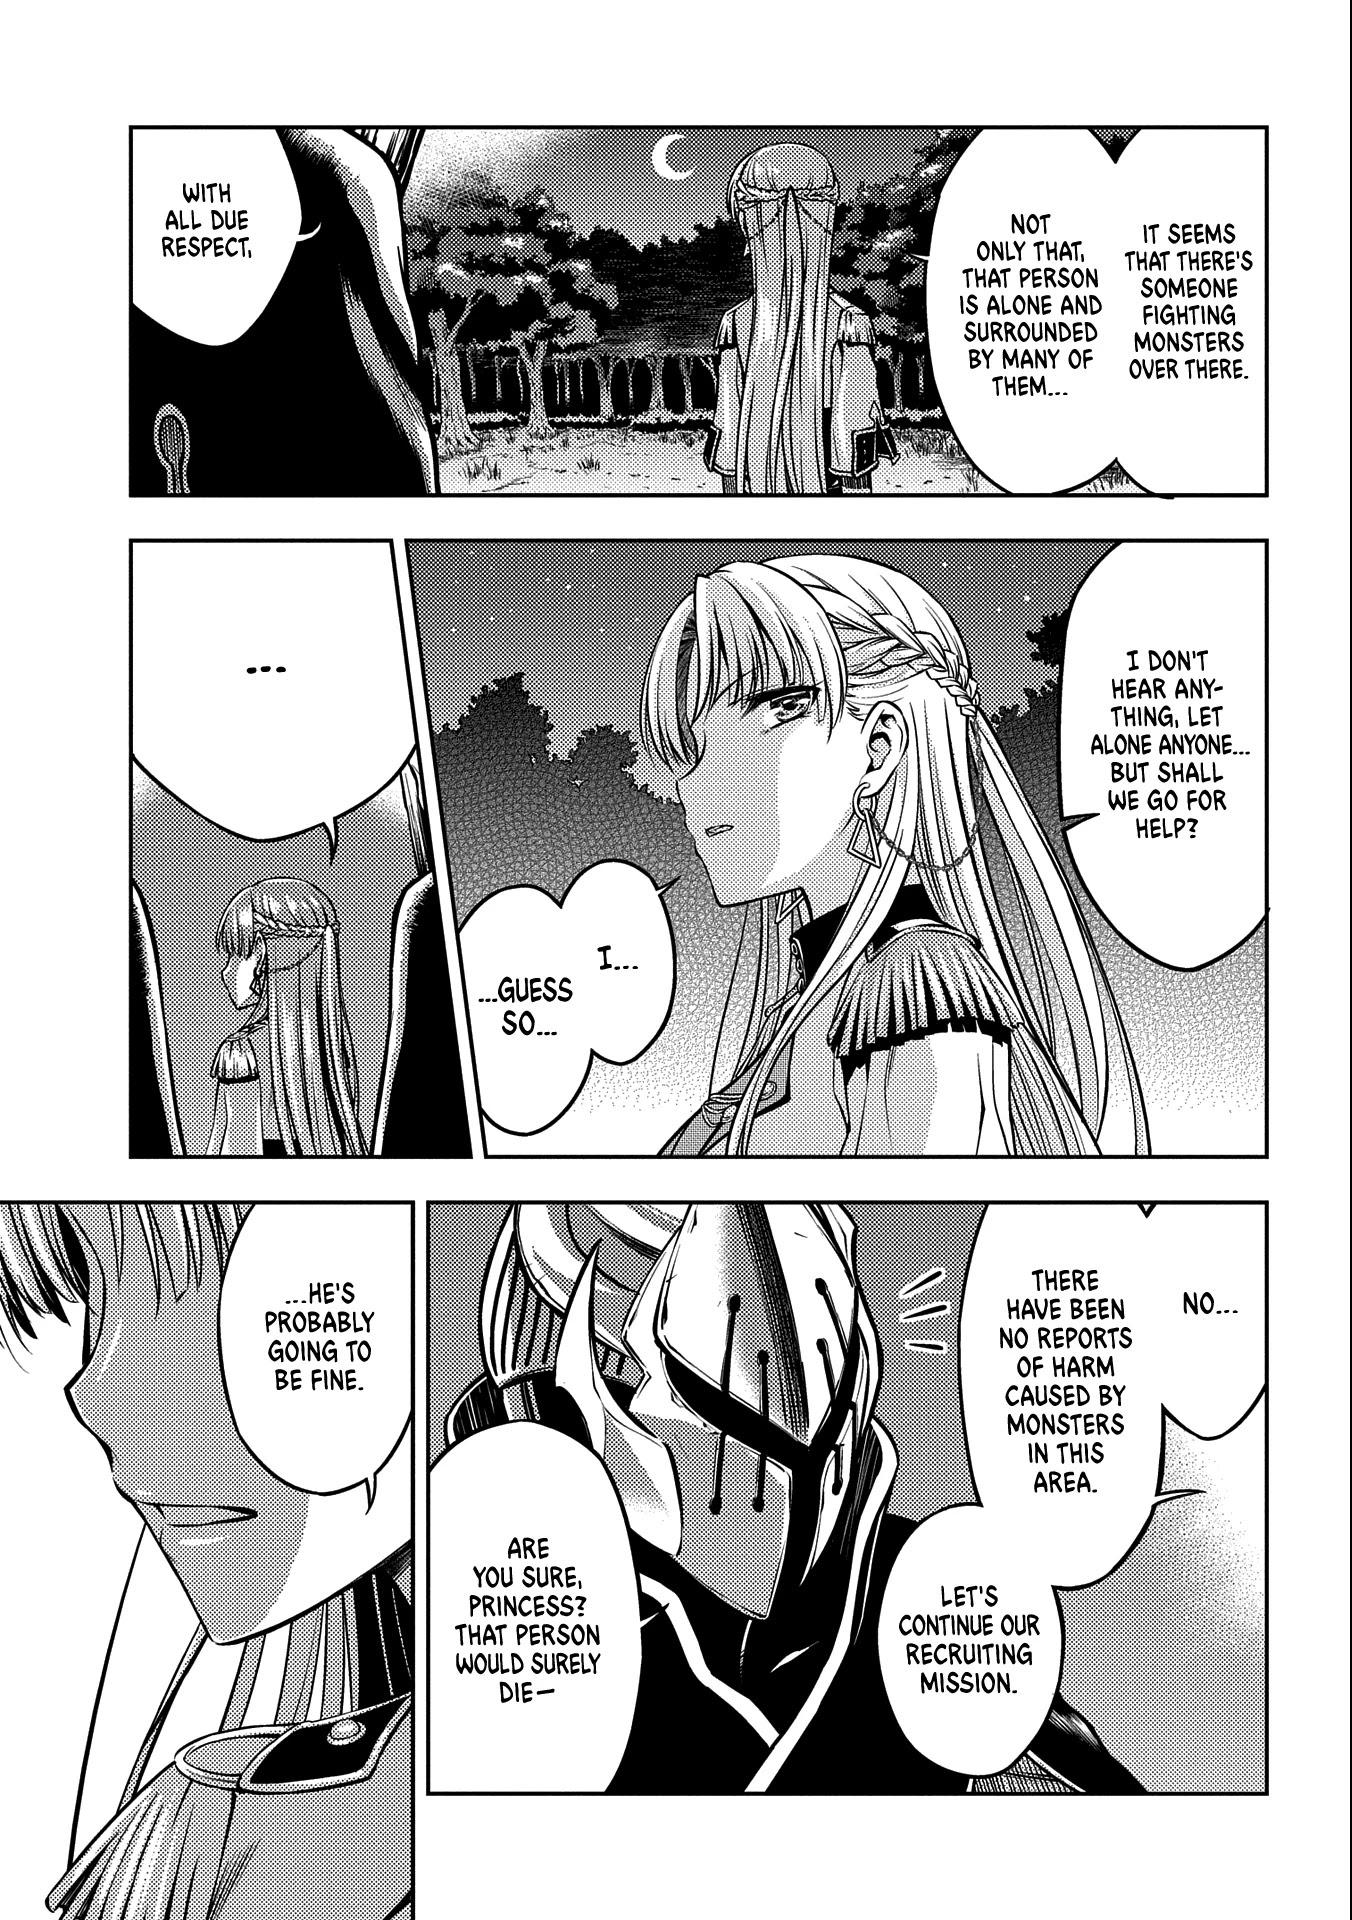Bubble: (1056, 533, 1274, 976), (121, 530, 418, 846), (420, 1415, 648, 1797), (926, 117, 1116, 499), (953, 1194, 1153, 1547), (1111, 117, 1276, 500), (211, 1196, 416, 1497), (876, 1542, 1068, 1780), (121, 117, 307, 351), (1143, 1193, 1276, 1441), (457, 878, 581, 1136), (581, 858, 683, 1070)
